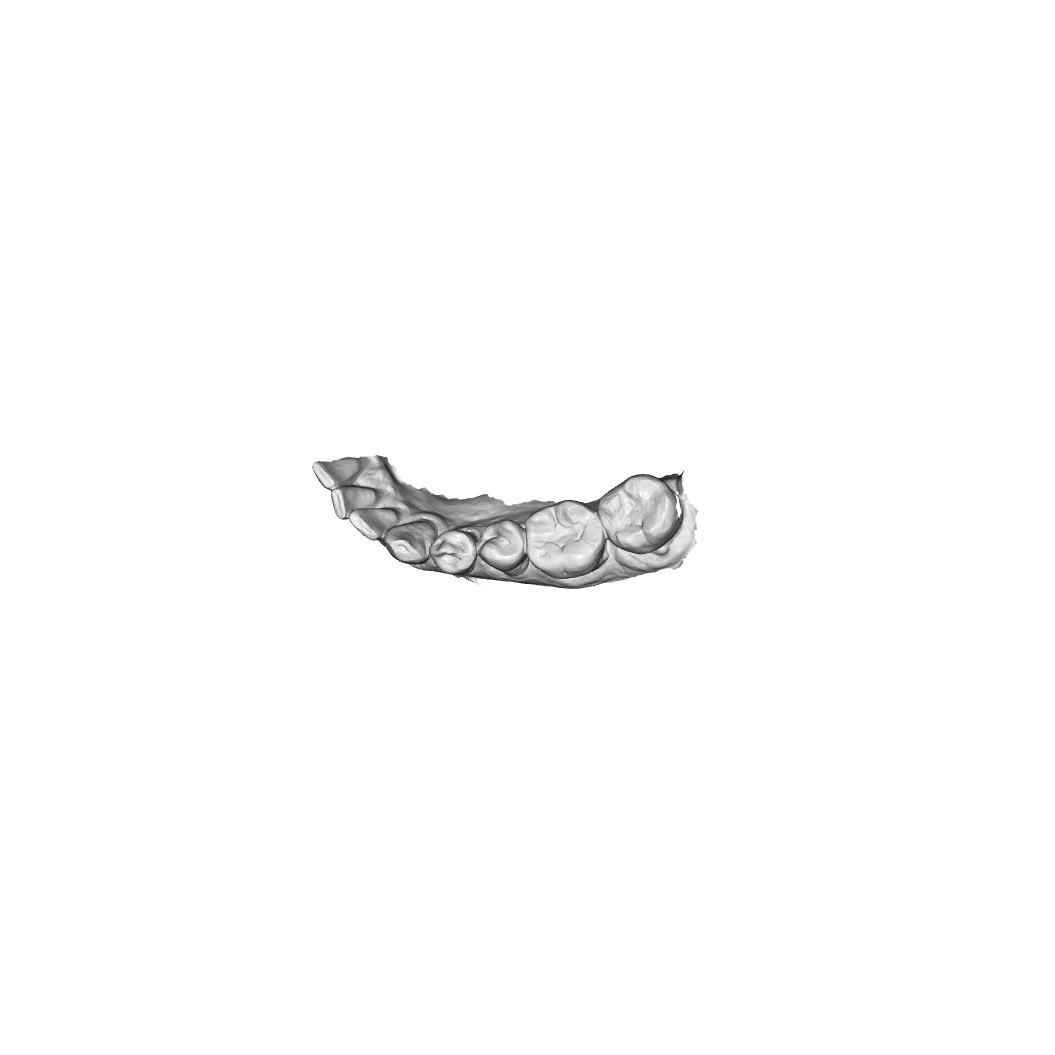canine: (385, 516, 436, 567)
incisor: (350, 505, 397, 541), (330, 483, 377, 519)
molar: (524, 502, 610, 578), (600, 474, 674, 547)
premolar: (431, 529, 480, 575), (482, 521, 524, 570)
